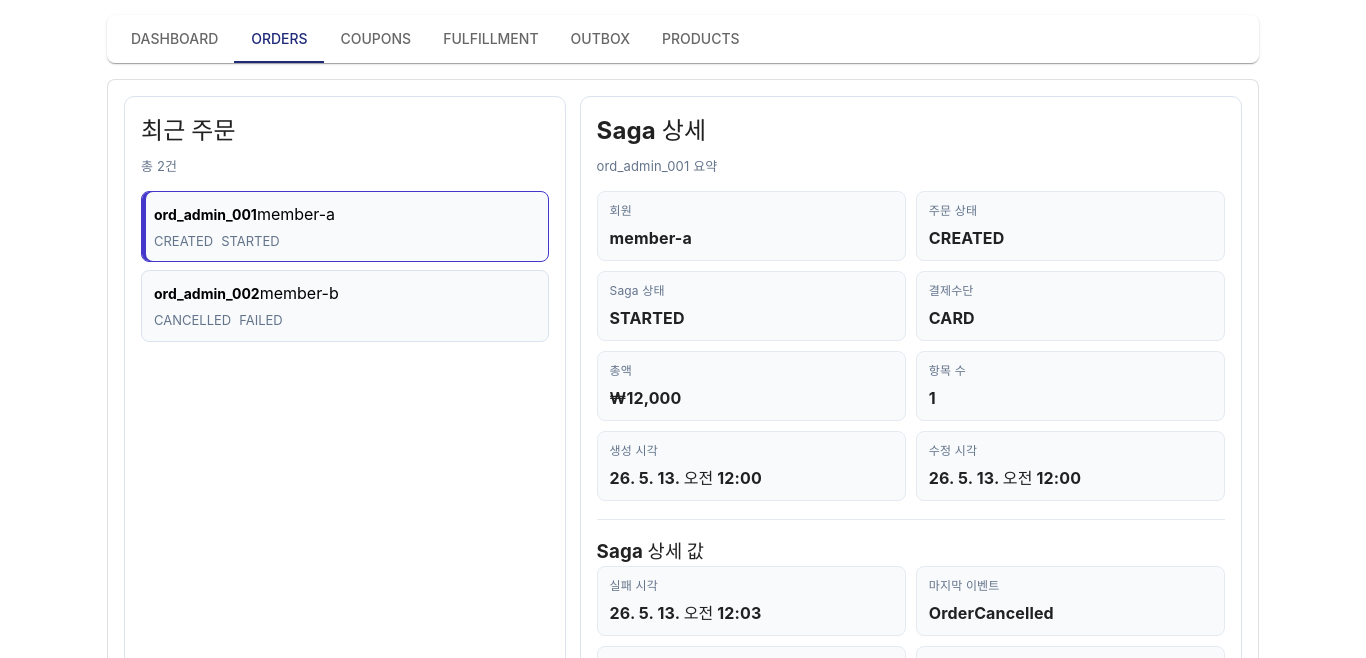
it: admin app operations › saves stock for direct SKU input (upsert-style flow)
The width and height of the screenshot is (1366, 658).
Click the tab "Products": (701, 39) [646,15,756,63]
(page scrolled)
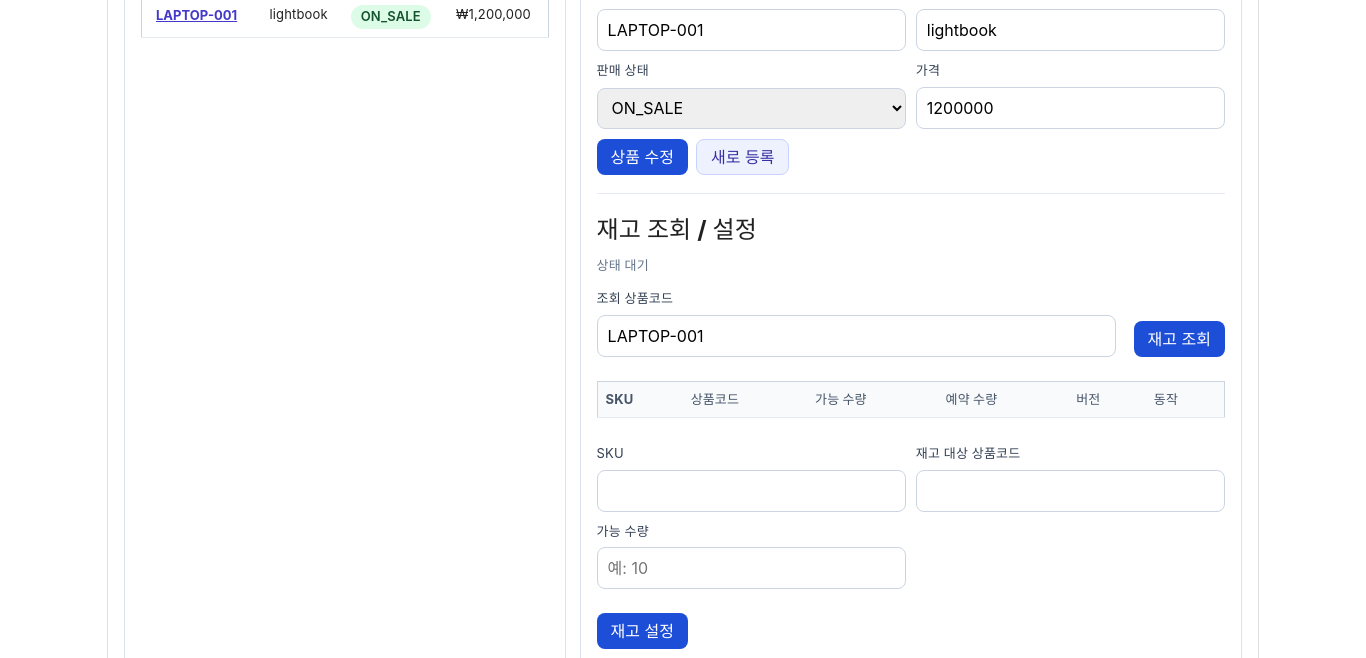
Expected: the heading "재고 조회 / 설정" is shown, [597,214,757,244]
In the field labelled "SKU": (751, 490) [597,470,906,512], type "SKU-NEW"
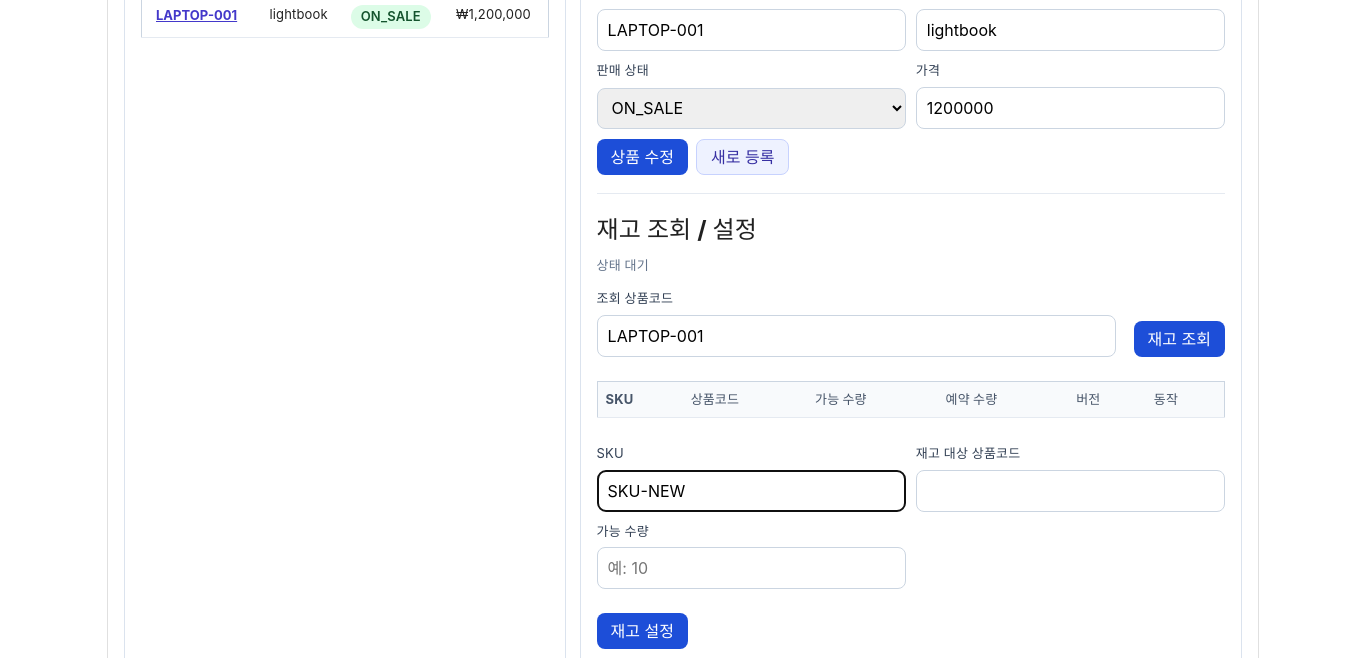
In the field labelled "재고 대상 상품코드": (1070, 490) [916,470,1225,512], type "NEW-PROD-001"
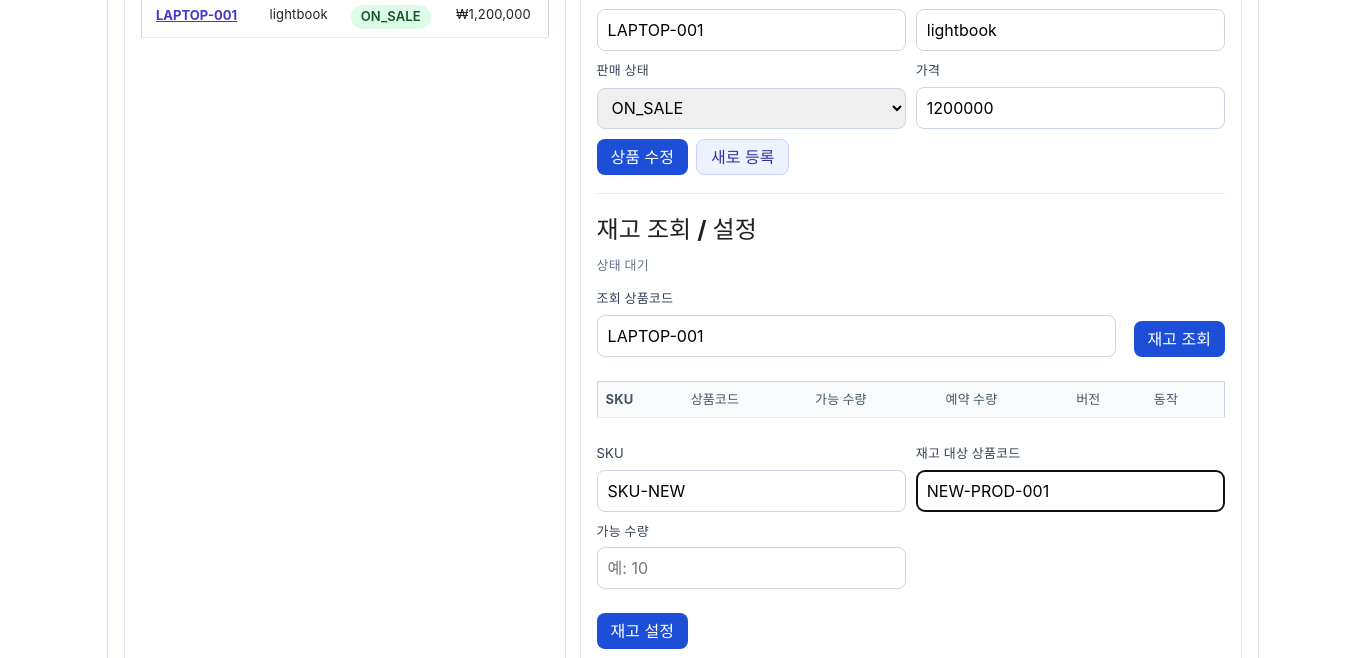
In the number field labelled "가능 수량": (751, 568) [597,547,906,589], type "7"
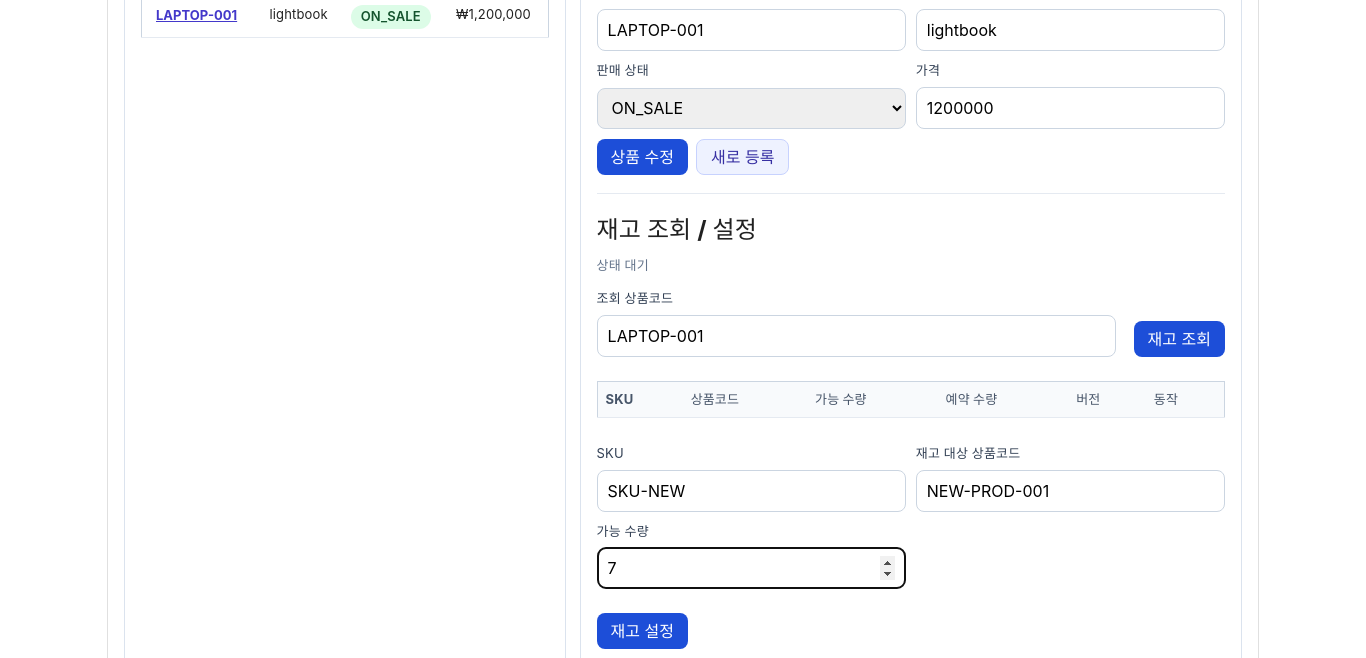
Click the button "재고 설정": (642, 631) [597,613,688,649]
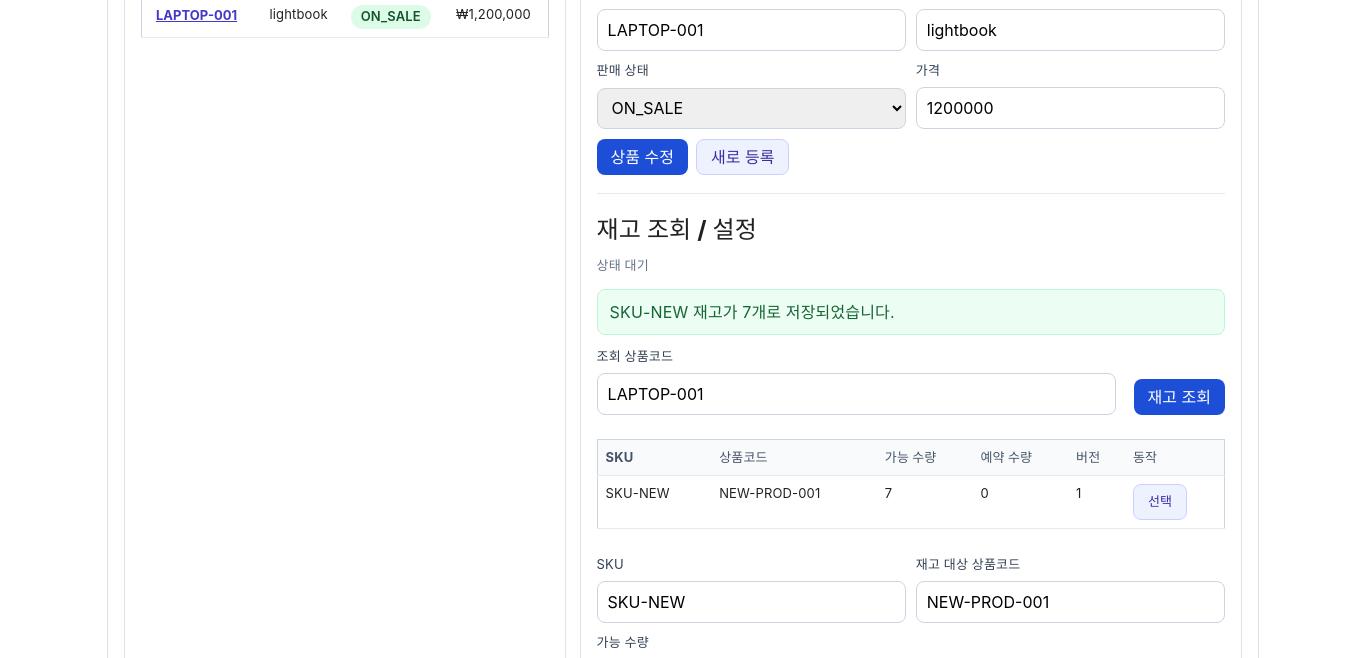
Expected: the text "SKU-NEW 재고가 7개로 저장되었습니다." is shown, [597,289,1225,335]
